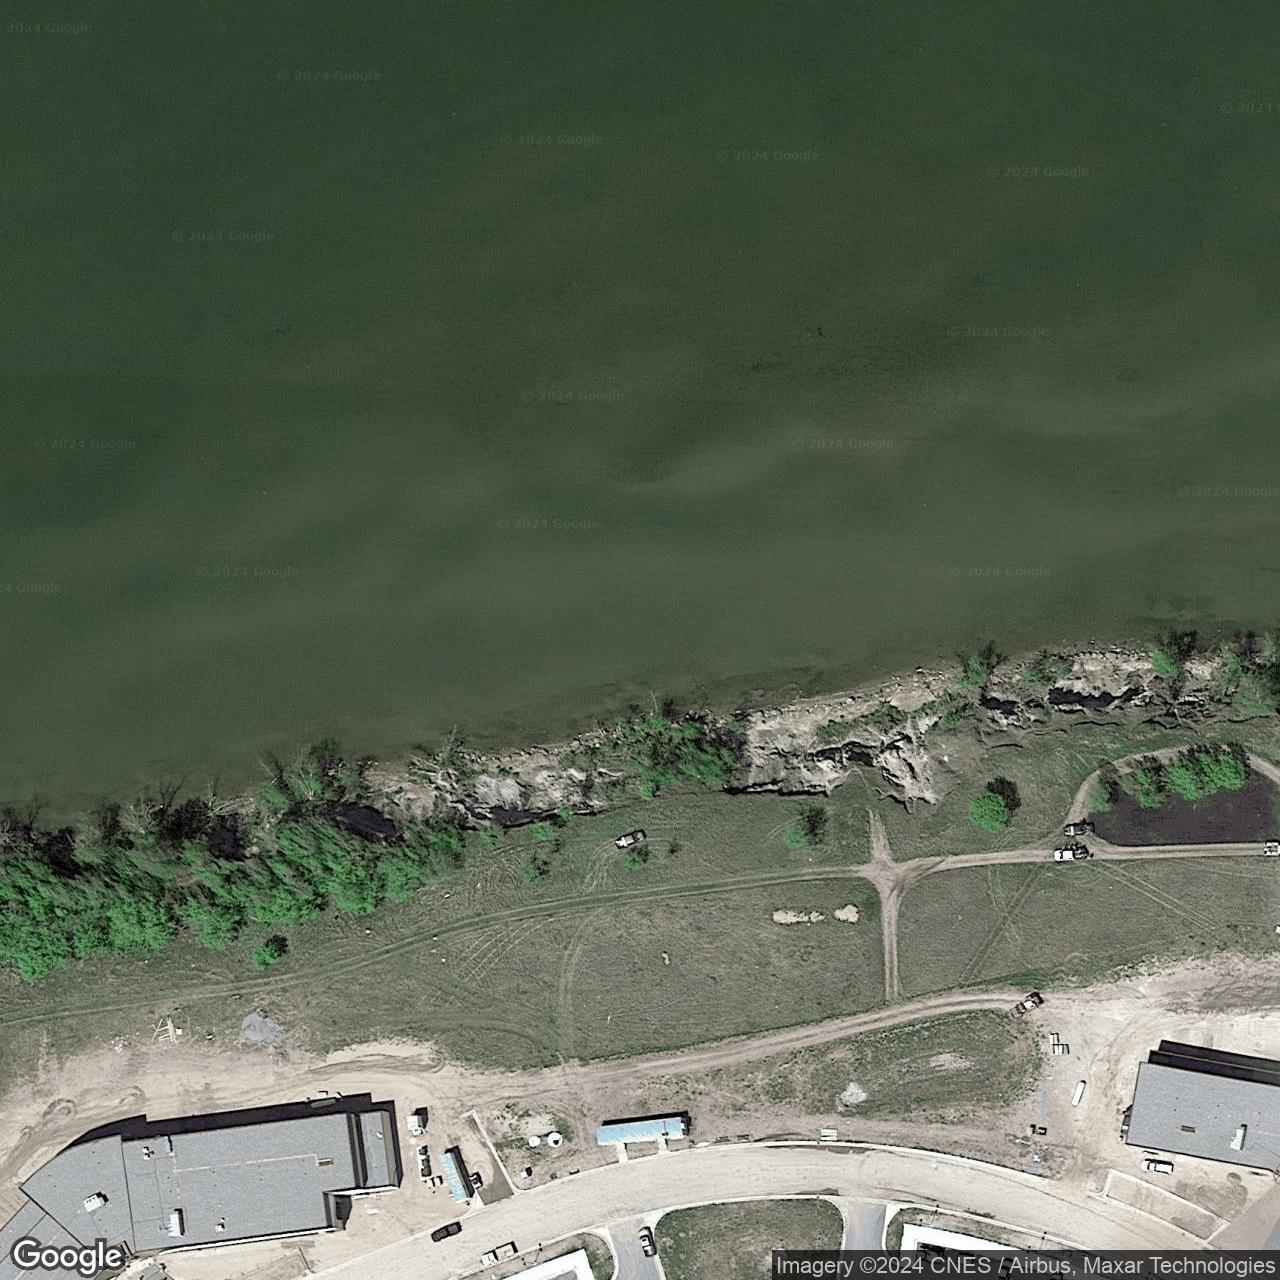House: (1123, 1061, 1279, 1176)
Other: (0, 1110, 401, 1279)
Propane: (1071, 1078, 1088, 1108), (311, 1097, 338, 1109)
Trailer: (597, 1117, 683, 1146)
